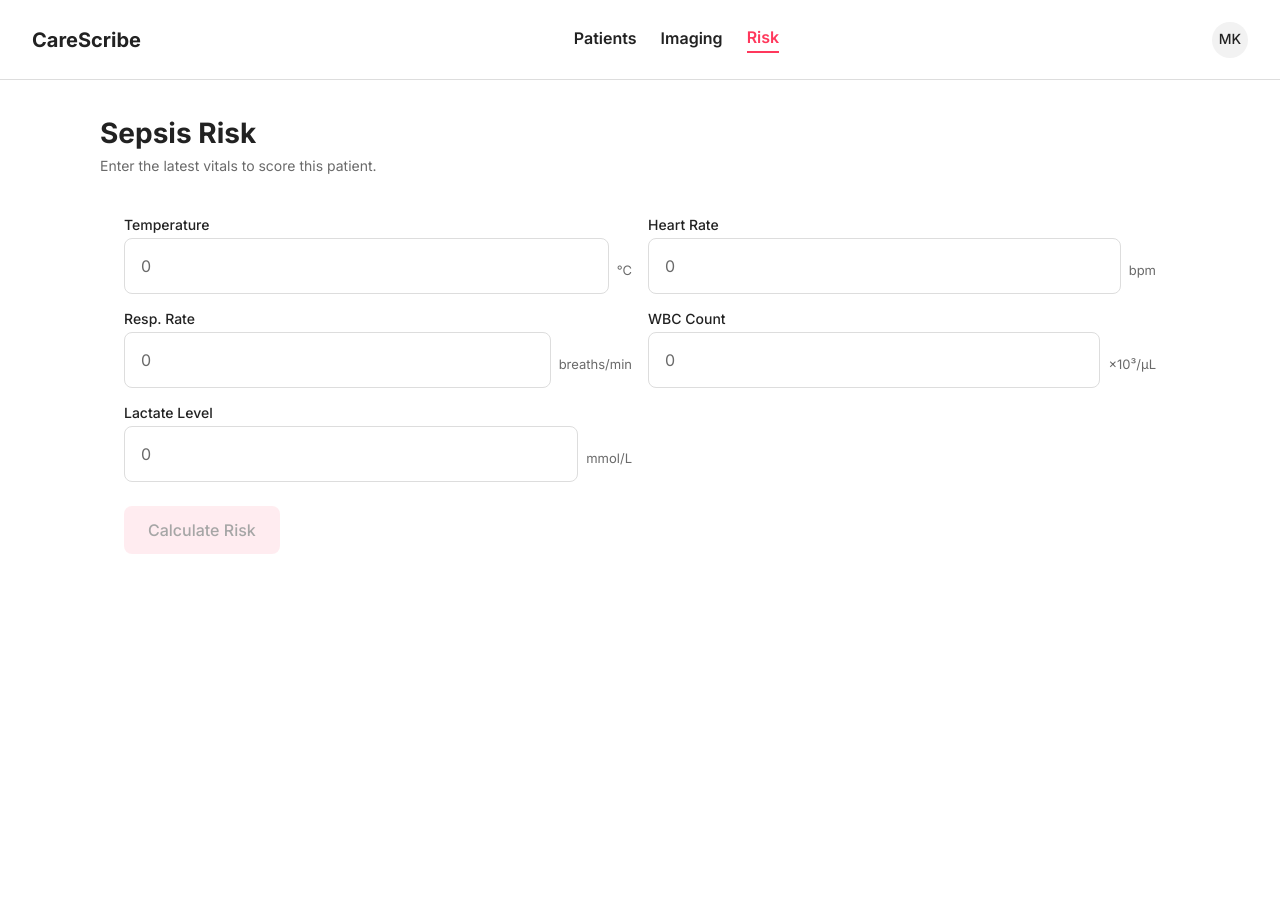
Test: sepsis risk screen › shows the big risk score, level badge and SHAP section
Step 1. Type "38.5" into the number field labelled "Temperature" → (366, 266), box top-left (124, 238), bottom-right (609, 294)
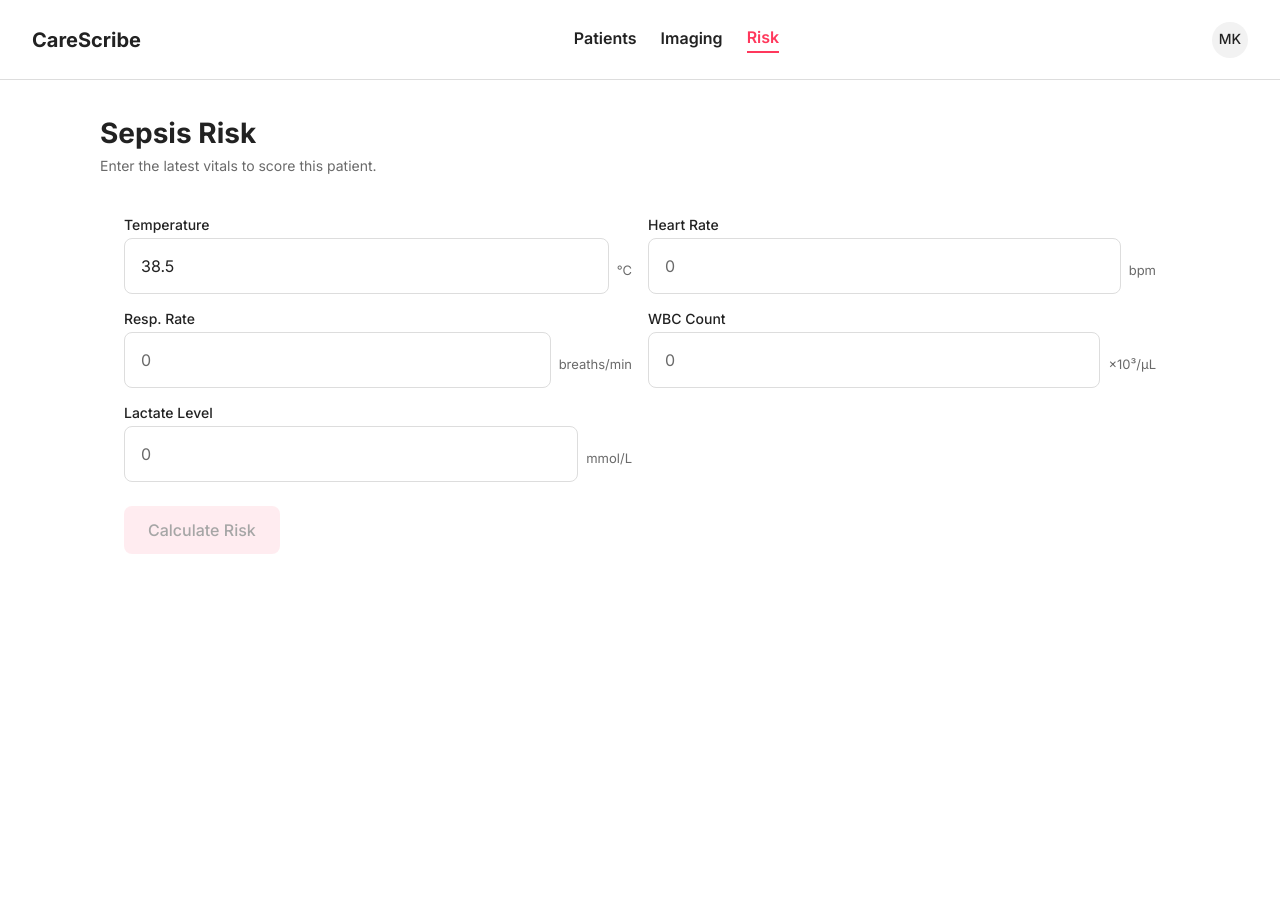
Step 2. Type "110" into the number field labelled "Heart Rate" → (884, 266), box top-left (648, 238), bottom-right (1121, 294)
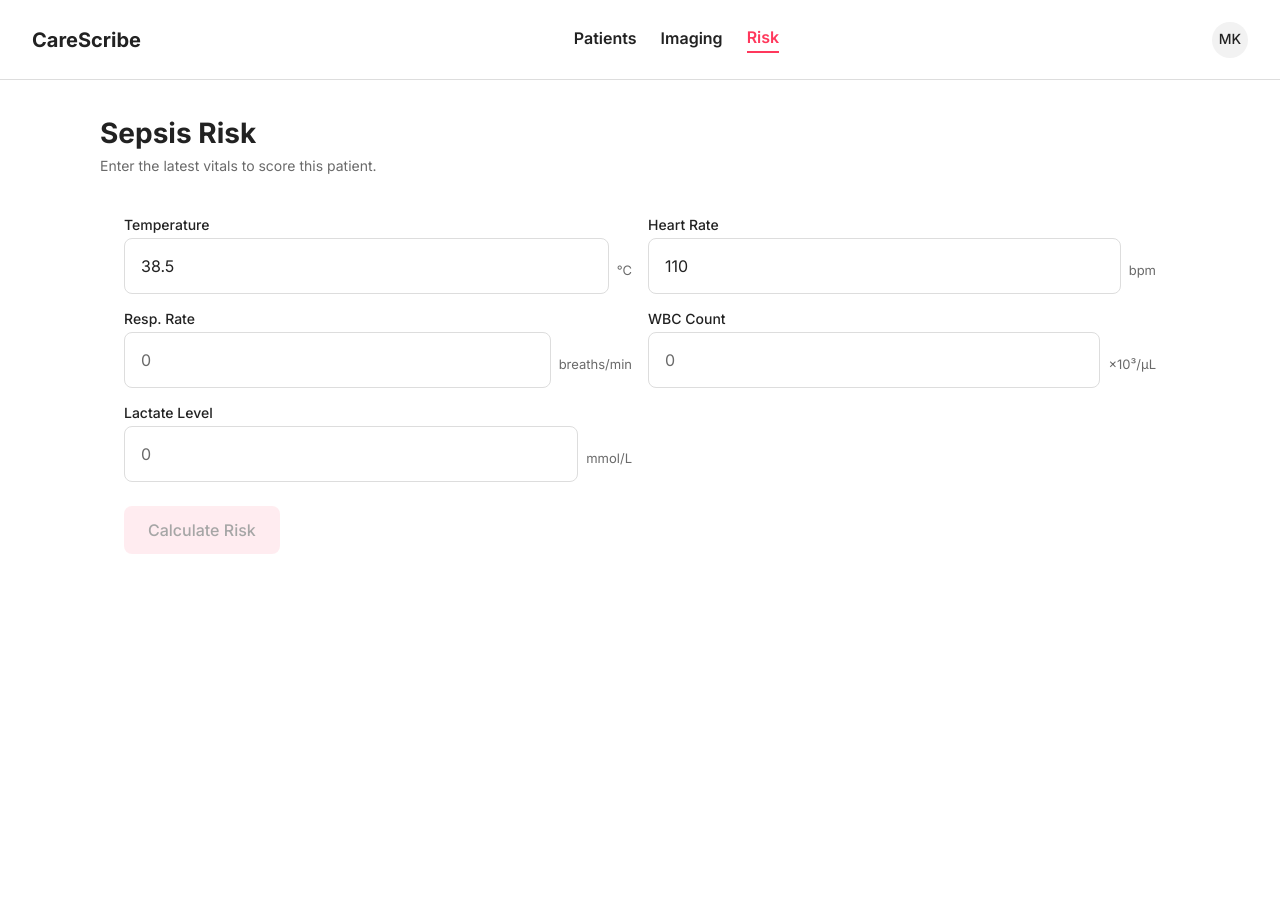
Step 3. Type "24" into the number field labelled "Resp. Rate" → (337, 360), box top-left (124, 332), bottom-right (551, 388)
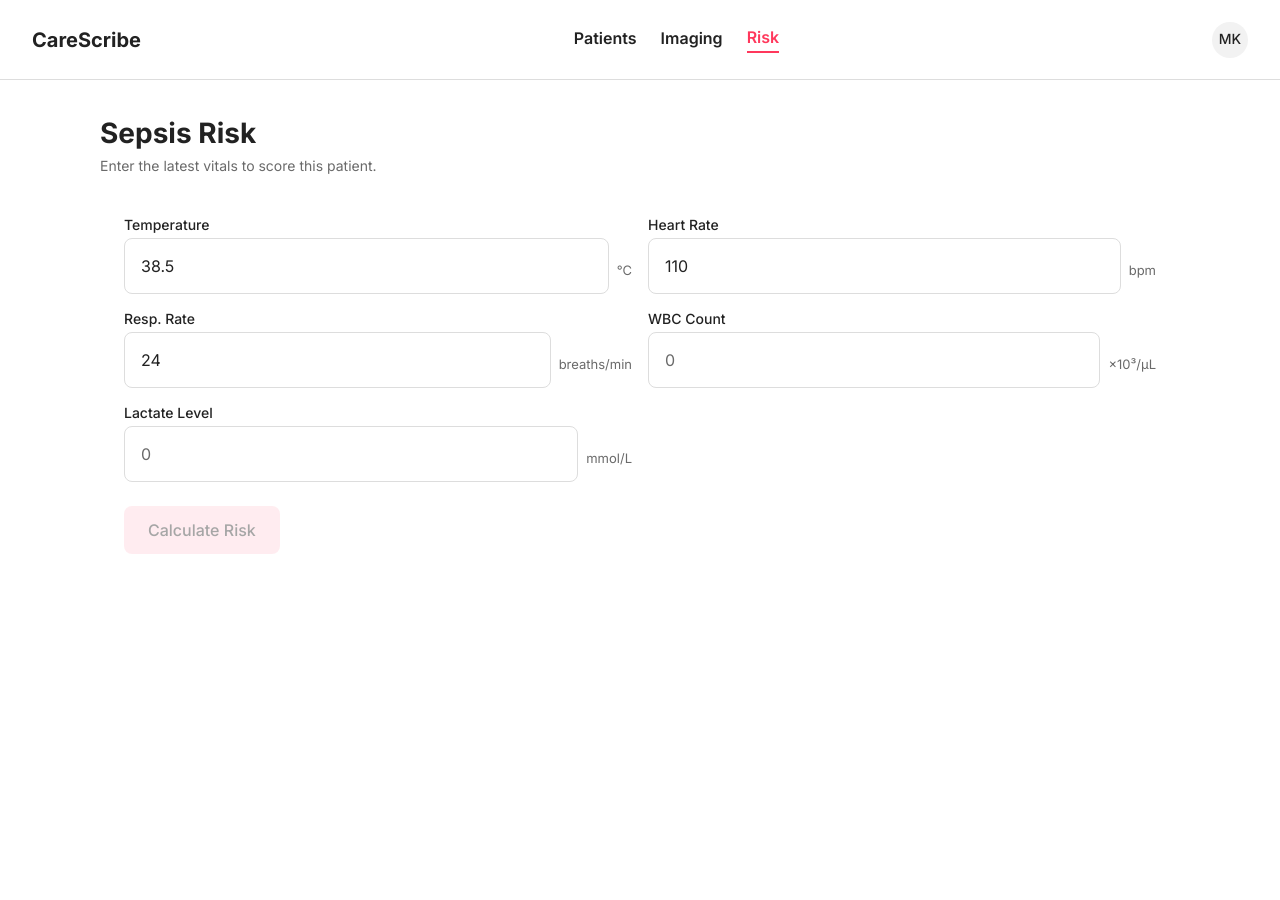
Step 4. Type "14" into the number field labelled "WBC Count" → (874, 360), box top-left (648, 332), bottom-right (1100, 388)
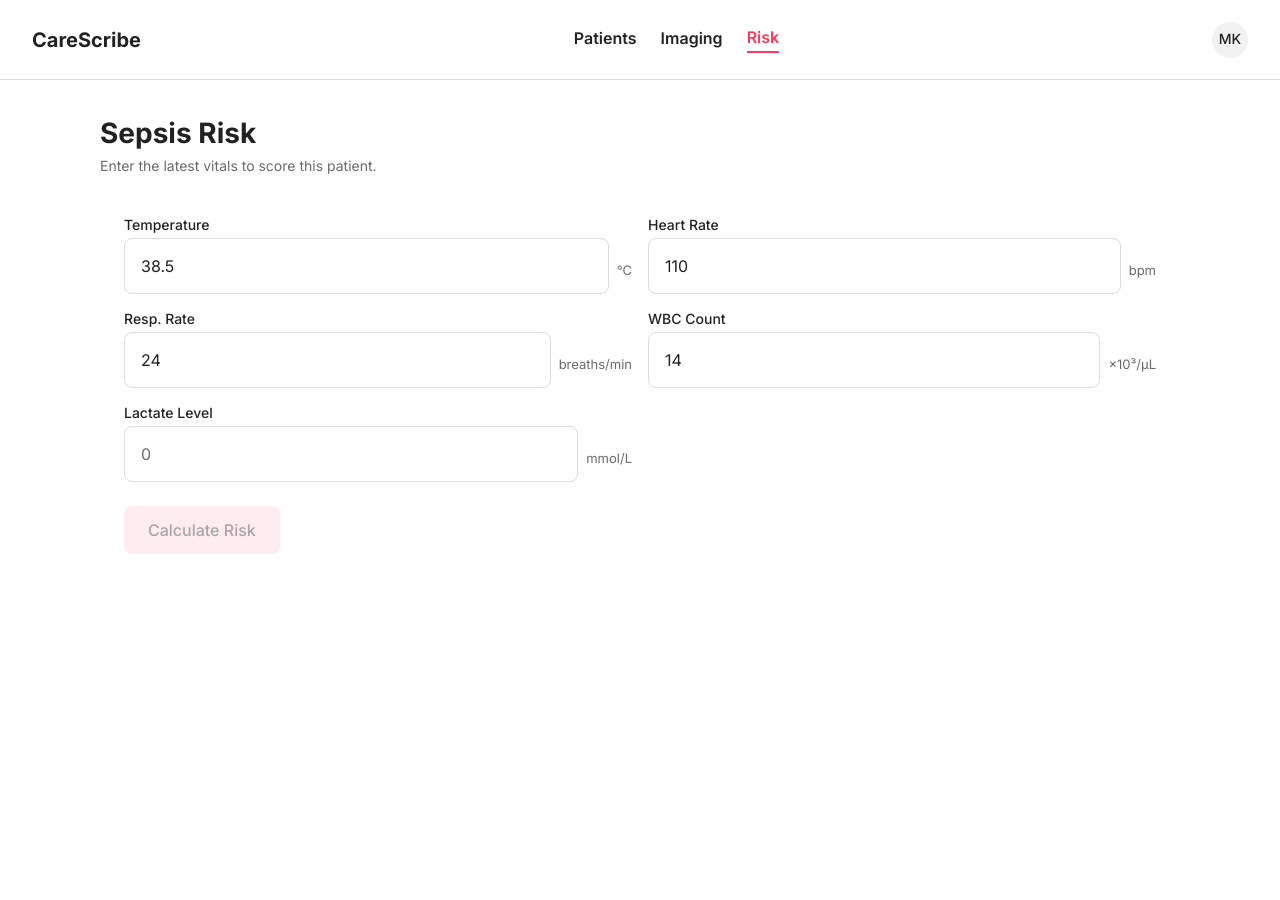
Step 5. Type "3.2" into the number field labelled "Lactate Level" → (351, 454), box top-left (124, 426), bottom-right (578, 482)
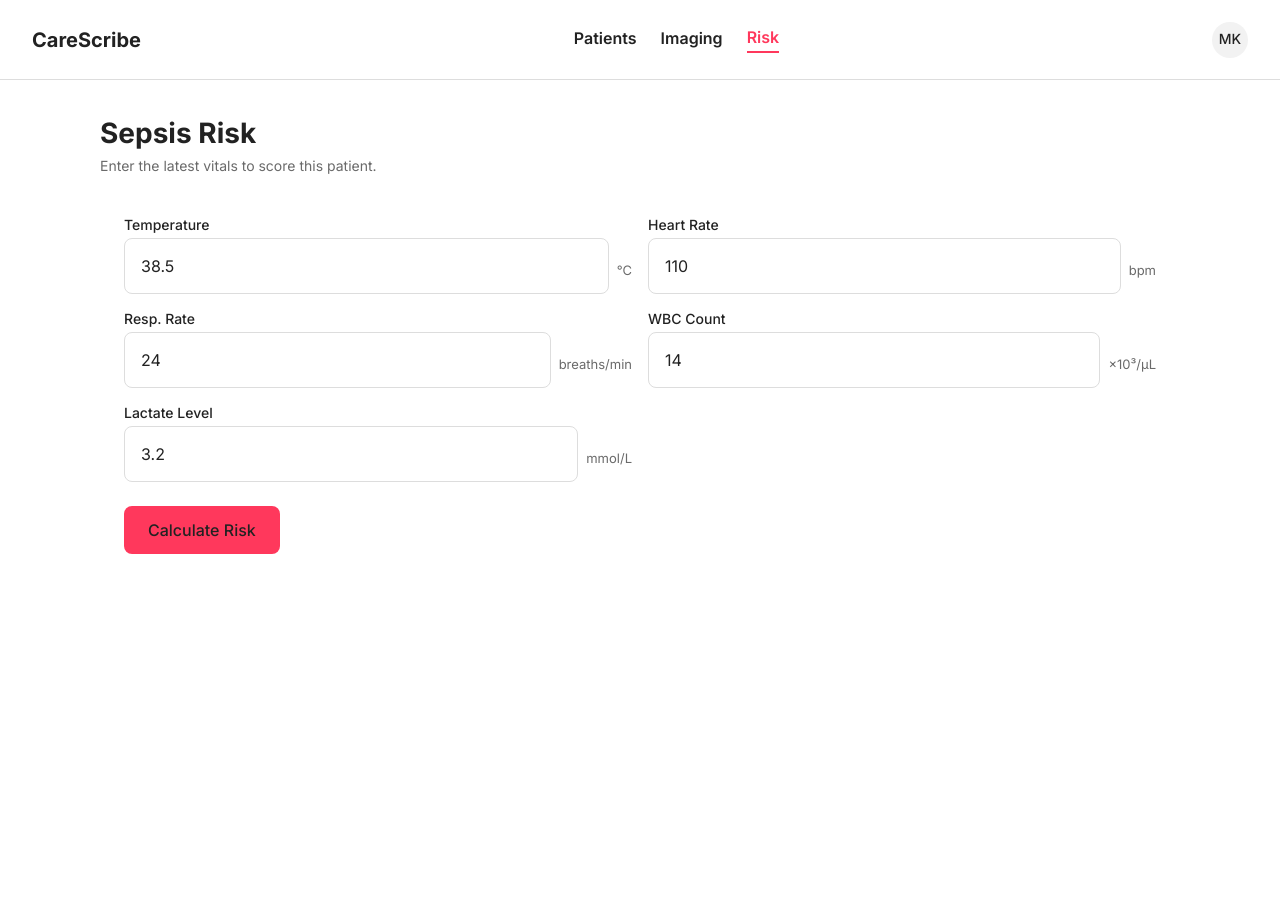
Step 6. Click the button "Calculate Risk" → (202, 530), box top-left (124, 506), bottom-right (280, 554)
(page scrolled)
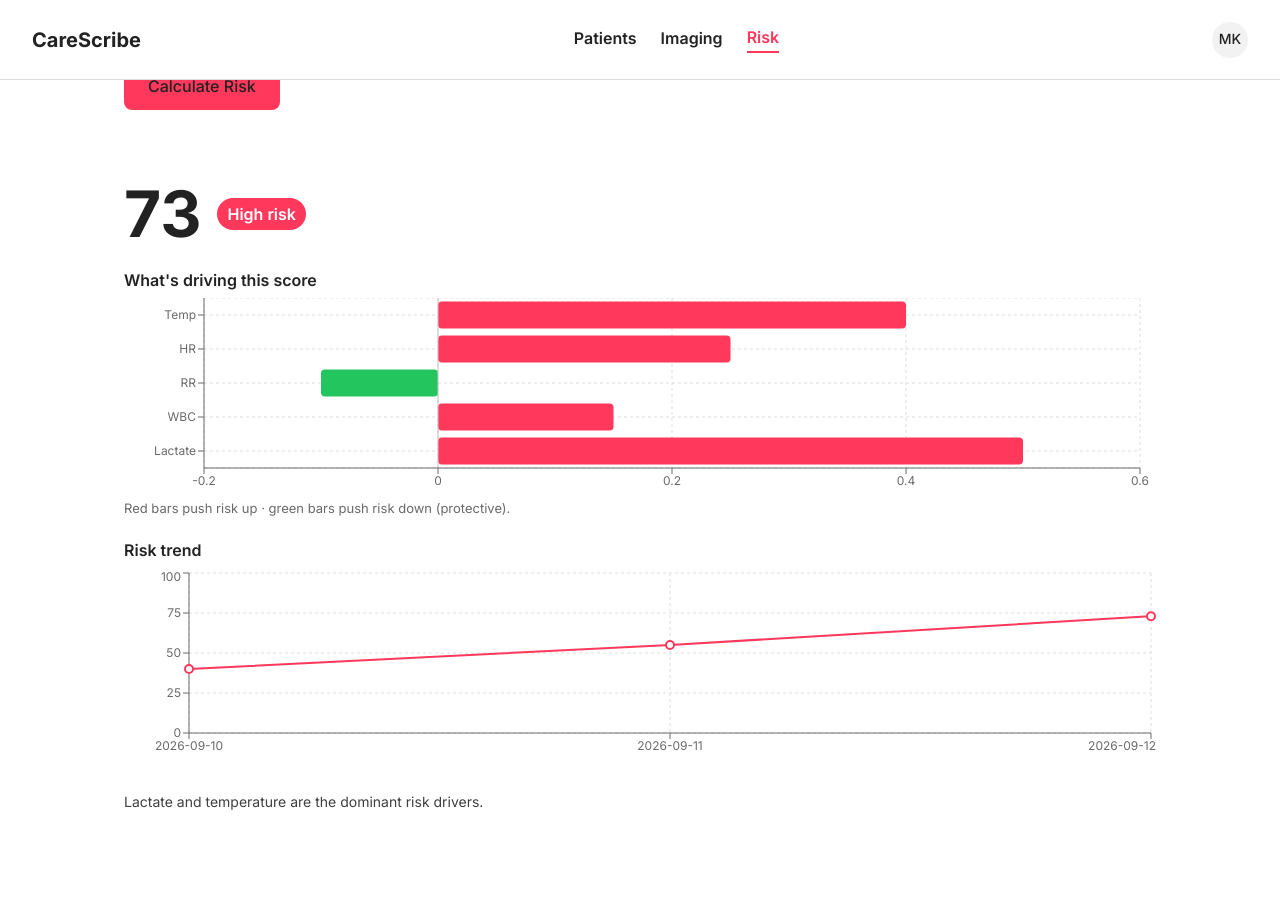
Now the text "73" is shown, box top-left (124, 182), bottom-right (202, 246)
Now the text "High risk" is shown, box top-left (218, 198), bottom-right (306, 230)
Now the heading "What's driving this score" is shown, box top-left (124, 270), bottom-right (317, 290)
